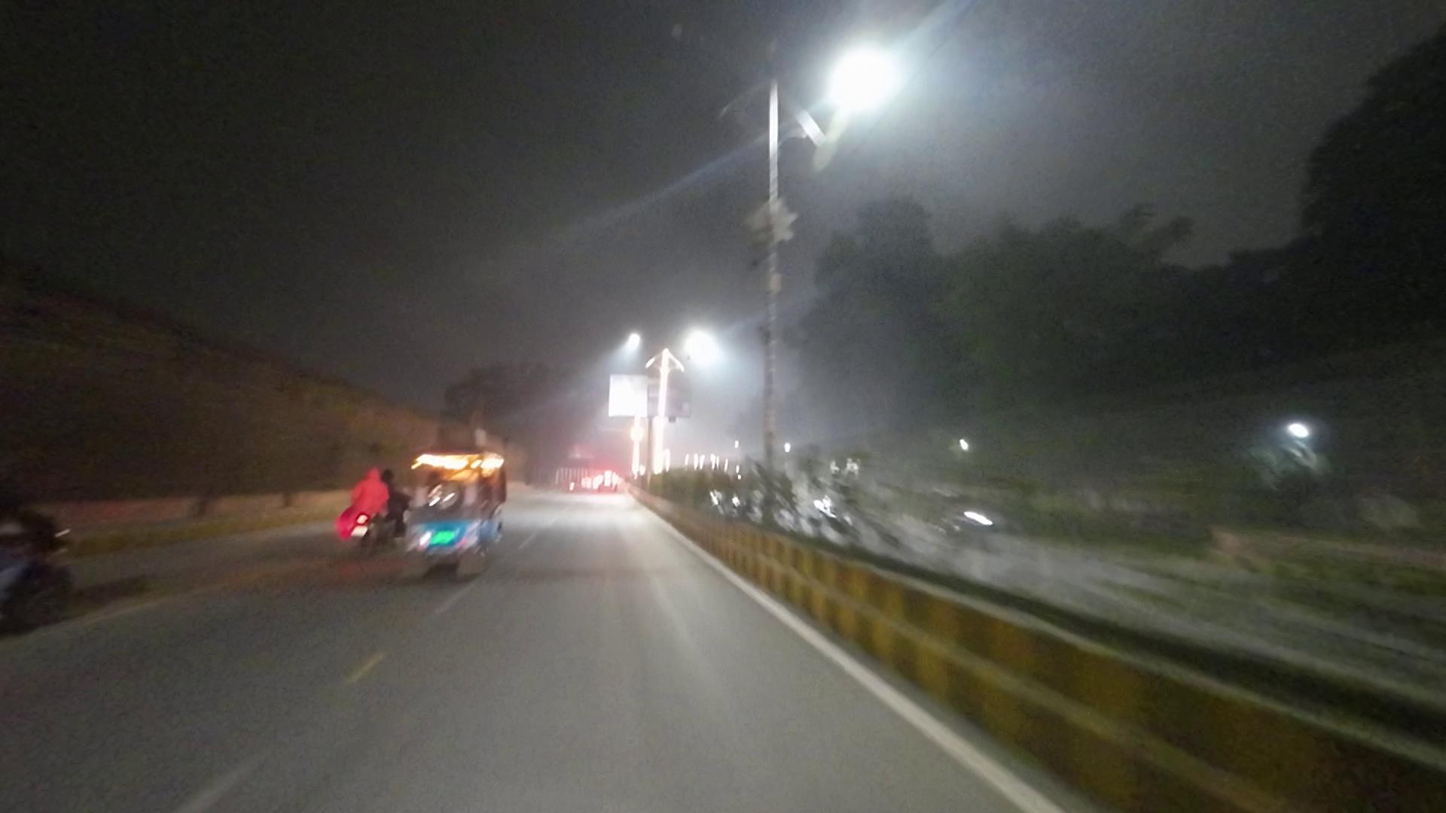streetlight: (661, 21, 735, 51)
